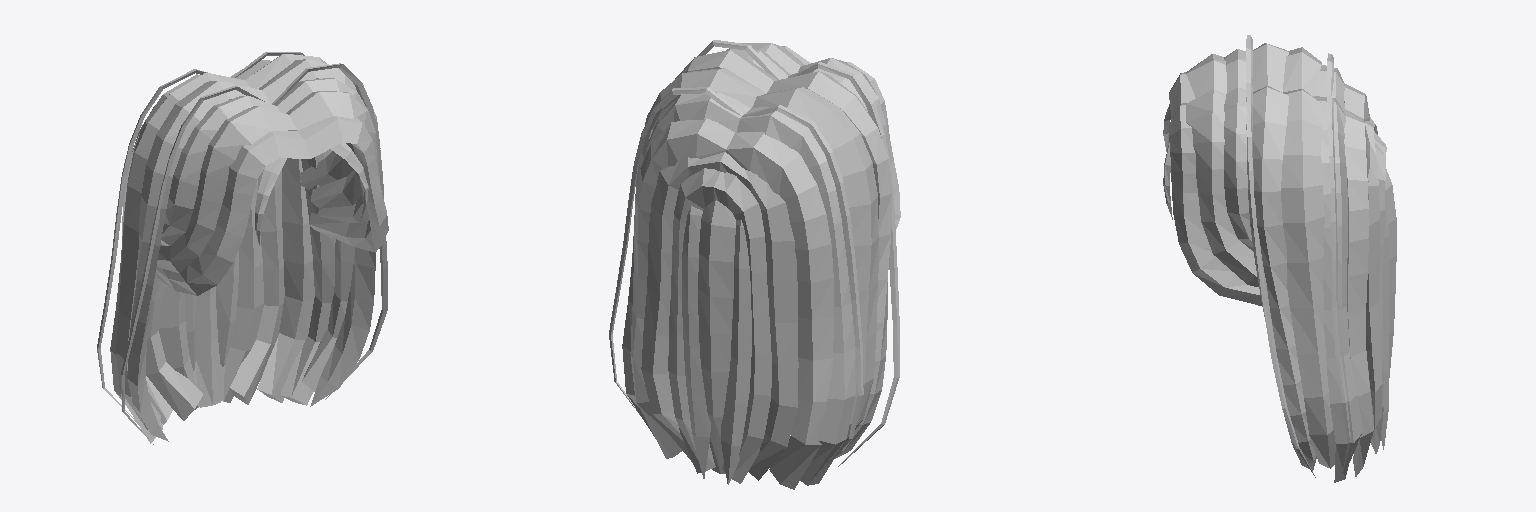
3 renders of one model, left to right at view 1: azimuth 30°, elevation 25°; view 2: azimuth 150°, elevation 25°; view 3: azimuth 270°, elevation 25°, orthographic.
Parts seen in each view (by area): view 1: LongHairFemale_NurbsPath.004; view 2: LongHairFemale_NurbsPath.004; view 3: LongHairFemale_NurbsPath.004.
Boxes of the visible parts, x1=… form: LongHairFemale_NurbsPath.004: x1=97, y1=52, x2=388, y2=444; LongHairFemale_NurbsPath.004: x1=609, y1=40, x2=900, y2=489; LongHairFemale_NurbsPath.004: x1=1163, y1=35, x2=1396, y2=482.
Bounding box in the file's own units: 3.75 × 5.15 × 2.86.